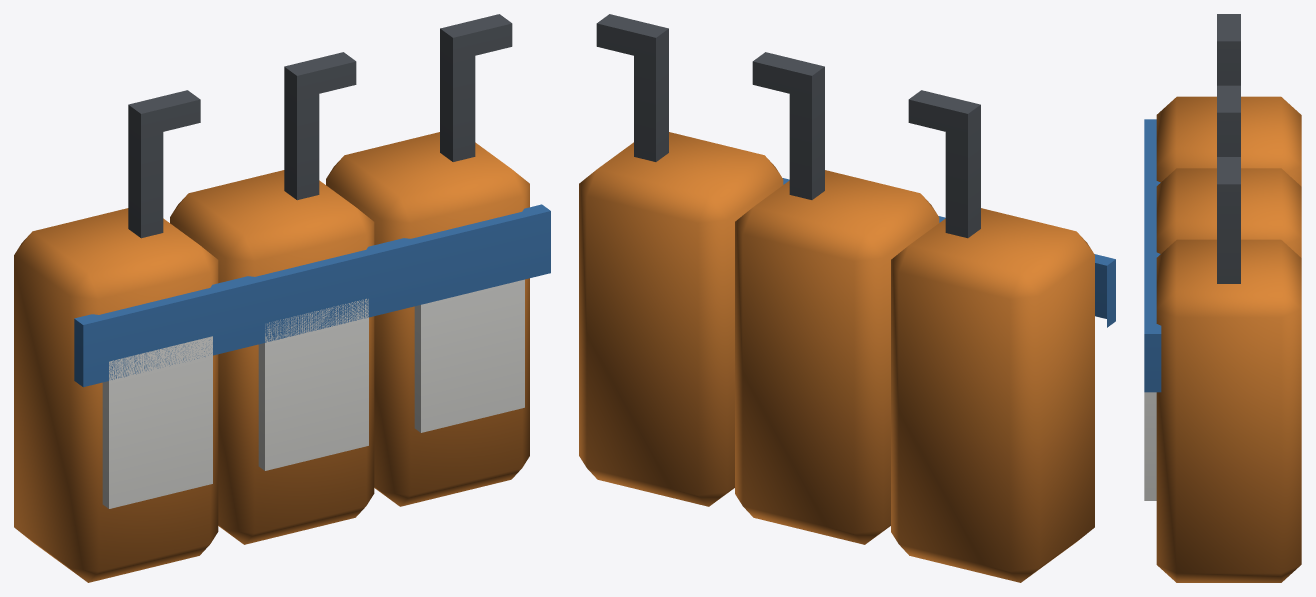
Rendered from Carton_JuiceBox_3Pack_01.glb.
3 views of the same model, side by side, from view 1: azimuth 30°, elevation 25°; view 2: azimuth 150°, elevation 25°; view 3: azimuth 270°, elevation 25° (orthographic). The views are drawn at different scales.
Visible parts, largest first — view 1: SM_Carton_JuiceBox_3Pack_01; view 2: SM_Carton_JuiceBox_3Pack_01; view 3: SM_Carton_JuiceBox_3Pack_01.
Boxes of the visible parts, x1=… form: SM_Carton_JuiceBox_3Pack_01: x1=14, y1=14, x2=550, y2=582; SM_Carton_JuiceBox_3Pack_01: x1=579, y1=14, x2=1115, y2=582; SM_Carton_JuiceBox_3Pack_01: x1=1144, y1=14, x2=1301, y2=582.
Bounding box in the file's own units: 0.126 × 0.112 × 0.039.
1 material, 1 textured.
